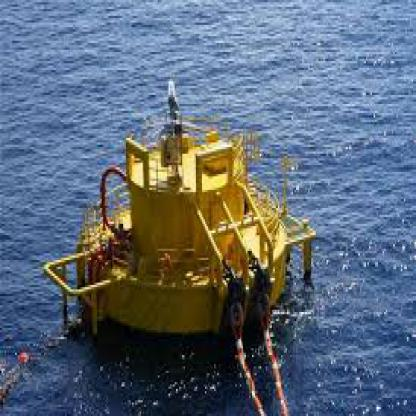buoy: (35, 70, 325, 369)
